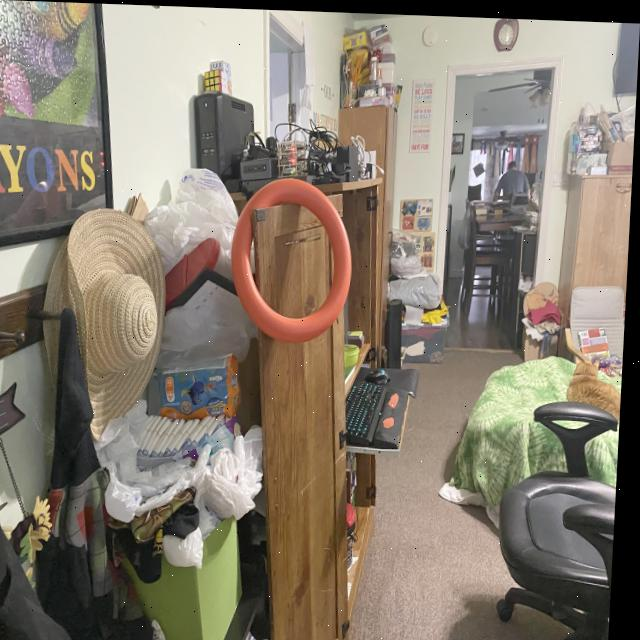note: (230, 171, 360, 346)
